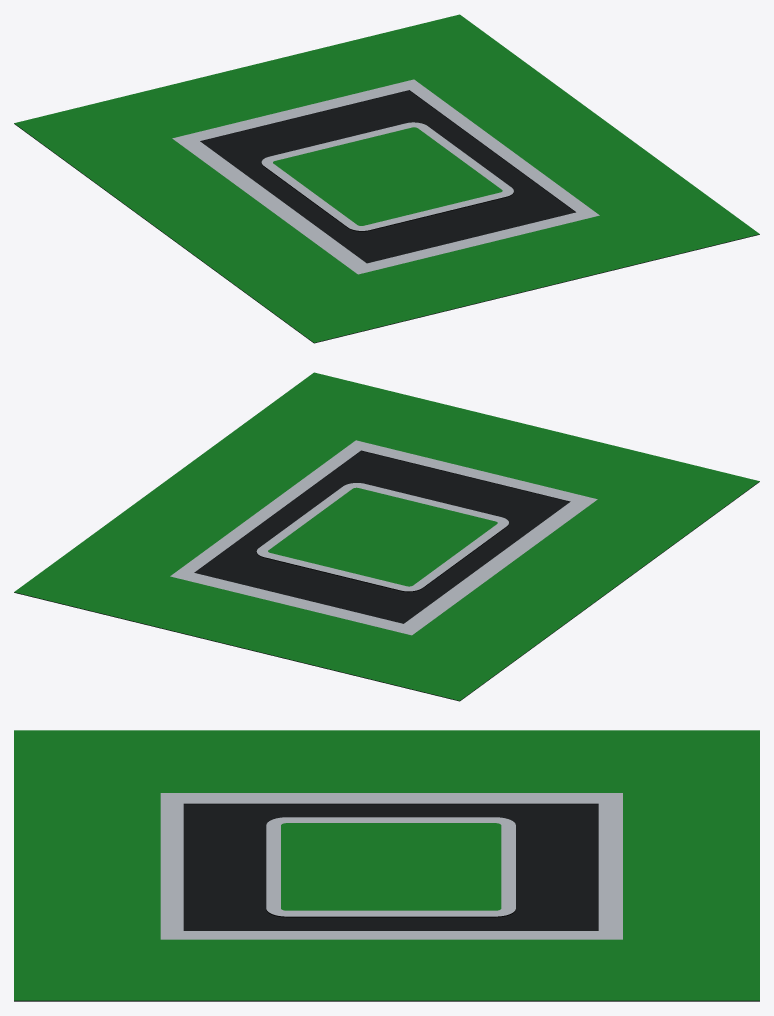
Rendered from carreteraNivel1.fbx.
3 views of the same model, one above another, from view 1: azimuth 30°, elevation 25°; view 2: azimuth 150°, elevation 25°; view 3: azimuth 270°, elevation 25° (orthographic). The views are drawn at different scales.
Parts seen in each view (by area): view 1: Cube; view 2: Cube; view 3: Cube.
Part boxes in pixels (bbox=[...]): Cube: bbox=[14, 14, 759, 343]; Cube: bbox=[14, 372, 759, 701]; Cube: bbox=[14, 730, 759, 1001].
Size of the model in its own units: 10645 by 34.82 by 12411.
